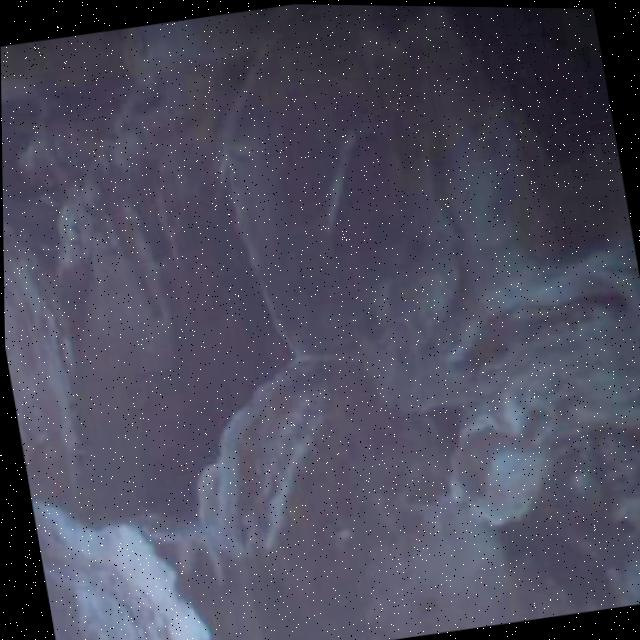Oyster-Indeterminate: (237, 5, 570, 403), (33, 509, 206, 640)
Oyster-Open: (197, 364, 356, 640), (3, 229, 89, 510)
